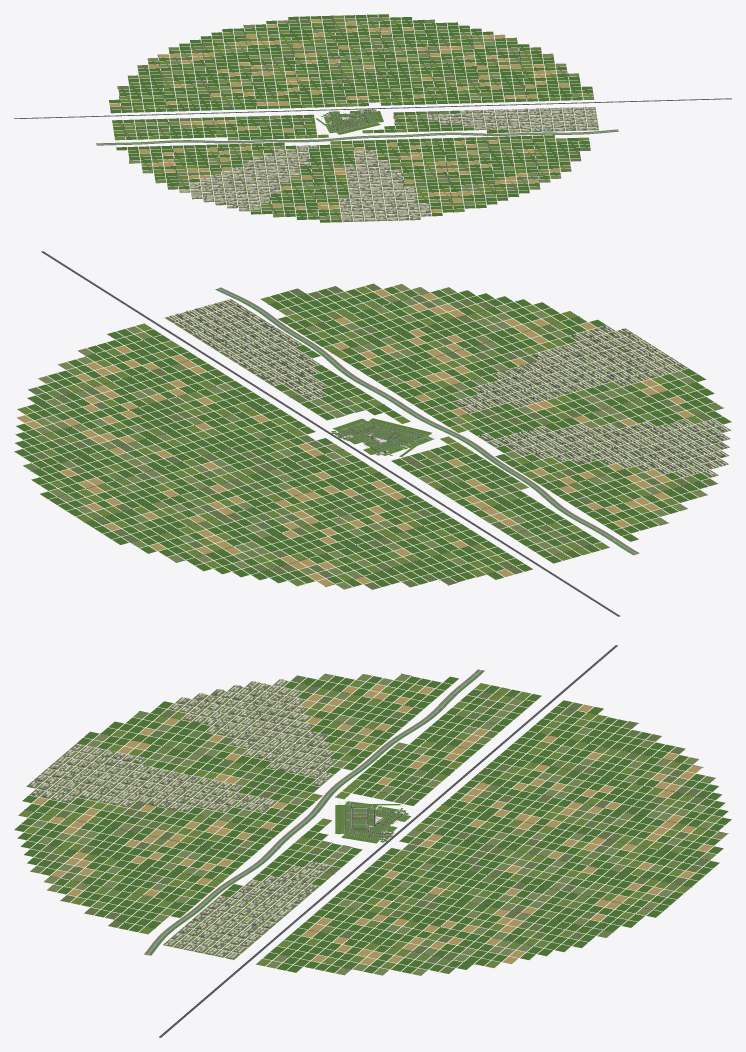
File: statics.glb
3 renders of one model, top to bottom at view 1: azimuth 30°, elevation 25°; view 2: azimuth 150°, elevation 25°; view 3: azimuth 270°, elevation 25°, orthographic. The views are drawn at different scales.
Parts seen in each view (by area): view 1: field_alfalfa, land, field_wheat, field_ripe, field_young, field_veg, plaster2, asphalt, plaster_grey, plaster, stone, grass (+2 smaller); view 2: field_alfalfa, land, field_wheat, field_ripe, field_young, field_veg, plaster2, asphalt, plaster_grey, plaster, stone, grass (+3 smaller); view 3: field_alfalfa, land, field_wheat, field_ripe, field_young, field_veg, plaster2, asphalt, plaster, plaster_grey, stone, grass (+3 smaller).
Boxes of the visible parts, x1,y1,x2,y2 form: field_alfalfa: (109, 14, 593, 222); land: (96, 19, 617, 221); field_wheat: (112, 15, 594, 216); field_ripe: (109, 19, 569, 212); field_young: (124, 17, 593, 219); field_veg: (110, 19, 590, 210); plaster2: (181, 107, 597, 221); asphalt: (14, 15, 731, 220); plaster_grey: (195, 108, 595, 221); plaster: (183, 107, 598, 220); stone: (179, 107, 596, 220); grass: (316, 109, 383, 134); field_alfalfa: (14, 286, 731, 586); land: (23, 287, 730, 586); field_wheat: (17, 286, 703, 580); field_ripe: (16, 289, 693, 586); field_young: (34, 284, 707, 589); field_veg: (28, 283, 717, 589); plaster2: (168, 300, 728, 476); asphalt: (30, 251, 726, 616); plaster_grey: (178, 300, 724, 471); plaster: (172, 299, 727, 476); stone: (167, 301, 727, 476); grass: (331, 418, 434, 456); field_alfalfa: (14, 675, 731, 973); land: (26, 670, 715, 965); field_wheat: (18, 680, 720, 969); field_ripe: (33, 684, 713, 964); field_young: (32, 673, 727, 975); field_veg: (41, 675, 708, 973); plaster2: (33, 680, 402, 958); asphalt: (24, 645, 728, 1037); plaster: (31, 681, 403, 956); plaster_grey: (28, 683, 391, 955); stone: (35, 679, 390, 958); grass: (335, 801, 410, 843).
Size of the model in its own units: 7904 by 33.07 by 6105.
